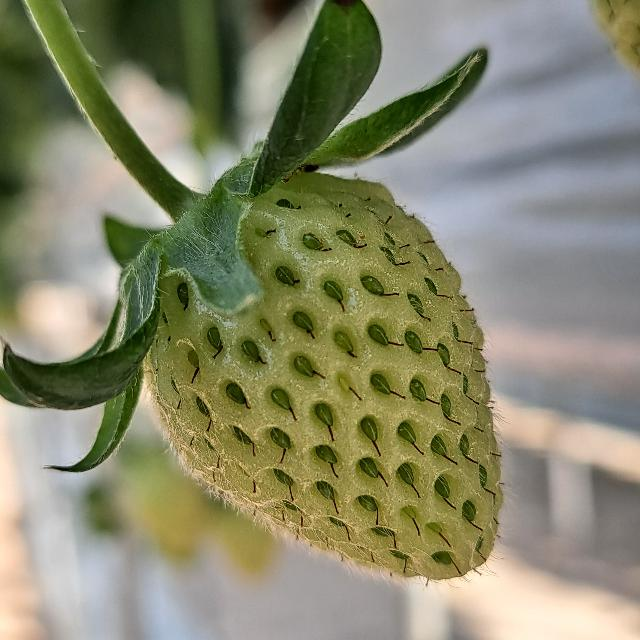Health_25: (142, 172, 502, 580)
